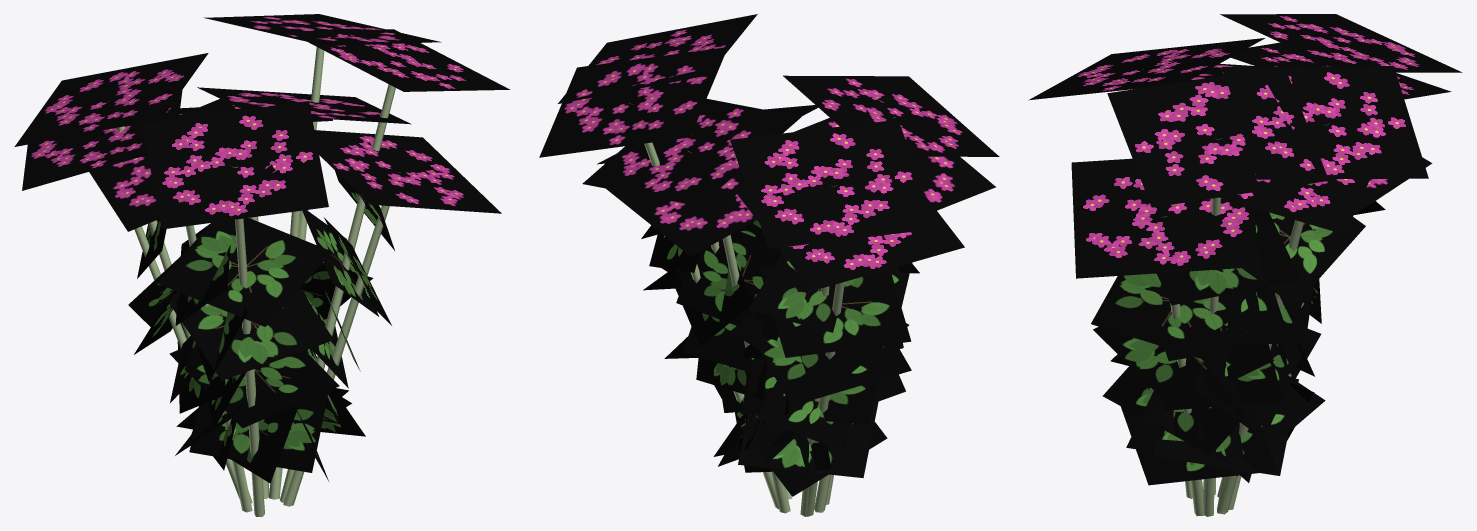
Rendered from orchidaceae-arbustiva.glb.
3 renders of one model, left to right at view 1: azimuth 30°, elevation 25°; view 2: azimuth 150°, elevation 25°; view 3: azimuth 270°, elevation 25°, orthographic. The views are drawn at different scales.
Visible parts, largest first — view 1: flores, folhas, haste; view 2: flores, folhas, haste; view 3: flores, folhas, haste.
Boxes of the visible parts, x1,y1,x2,y2 form: flores: (14, 14, 510, 231); folhas: (128, 170, 394, 483); haste: (99, 47, 402, 516); flores: (539, 14, 999, 290); folhas: (641, 220, 919, 496); haste: (630, 103, 895, 516); flores: (1028, 14, 1462, 278); folhas: (1091, 201, 1385, 485); haste: (1142, 69, 1329, 516).
Size of the model in its own units: 0.8 by 0.8 by 0.6669.
Materials: 3 (2 with a texture image).
